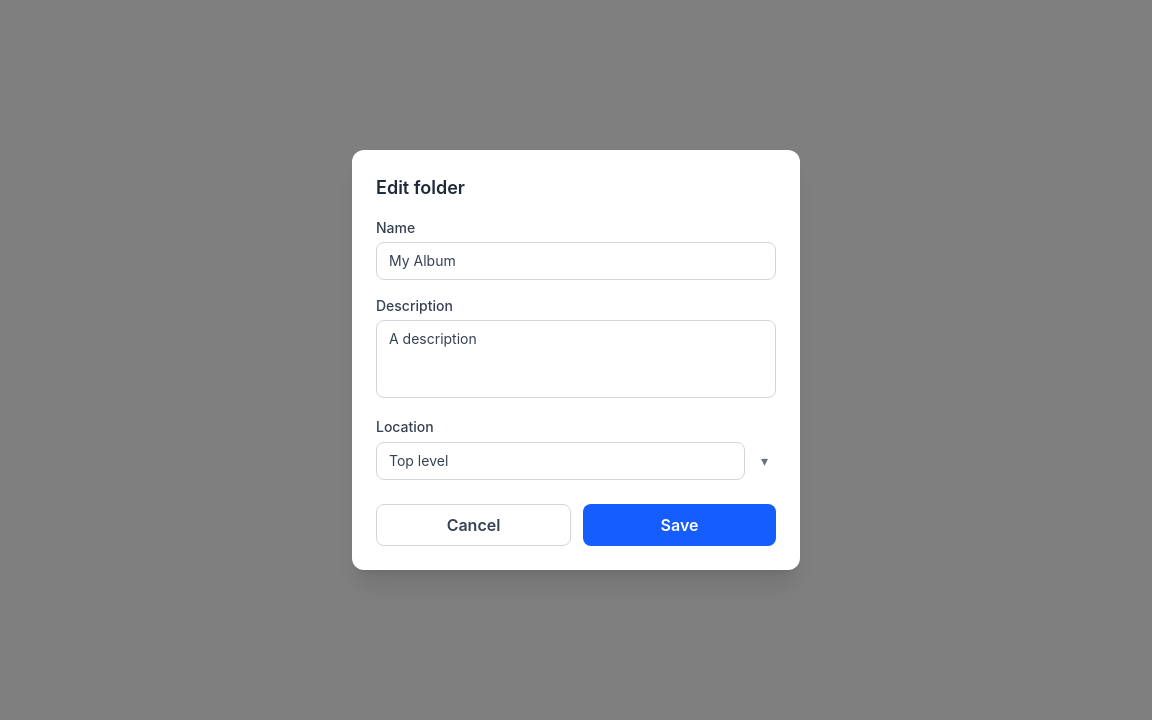
Test: AlbumEditModal › Location › shows the reason the server gave for refusing a move
The image size is (1152, 720).
Click the button with test id "edit-save-button" at (680,525), box [583,504,776,546]
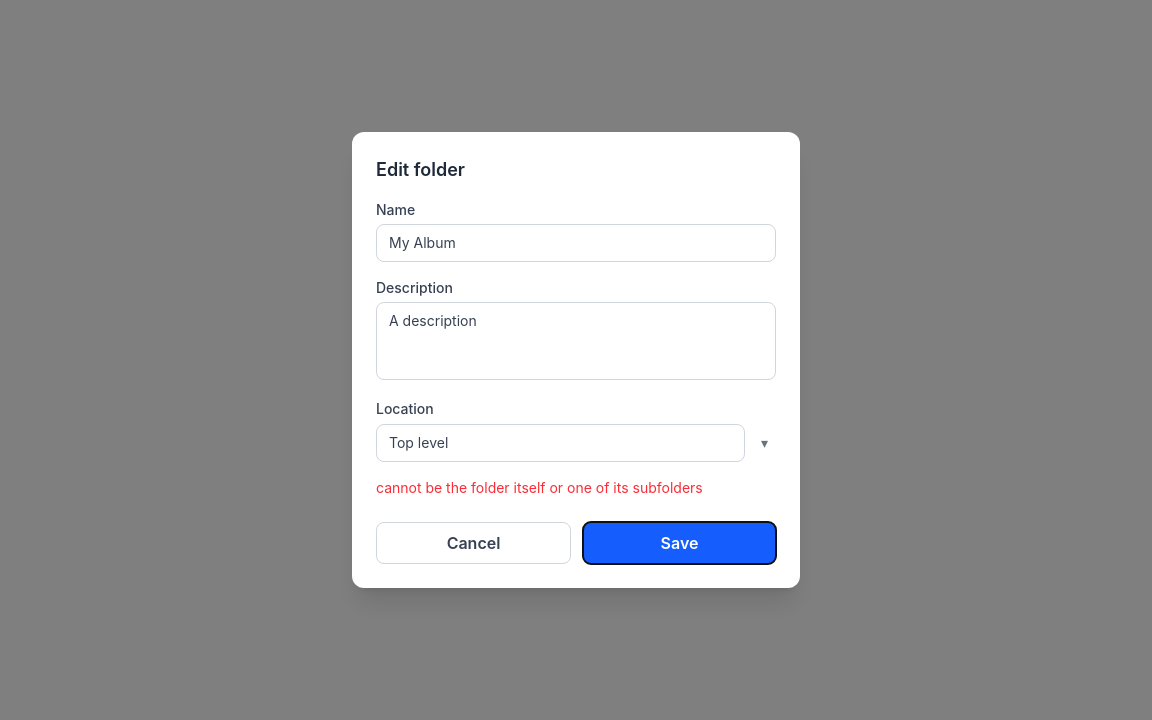
expect the text with test id "album-edit-error" reads "cannot be the folder itself or one of its subfolders": met, box [376,479,703,496]
